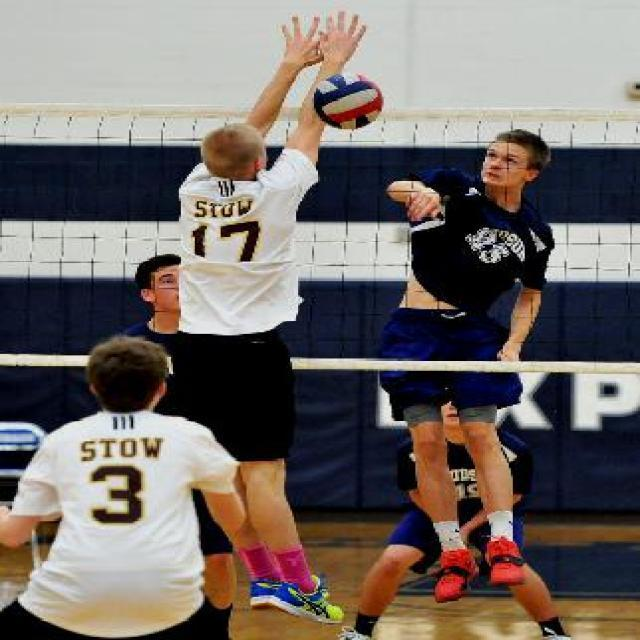volleyball: (314, 73, 384, 130)
